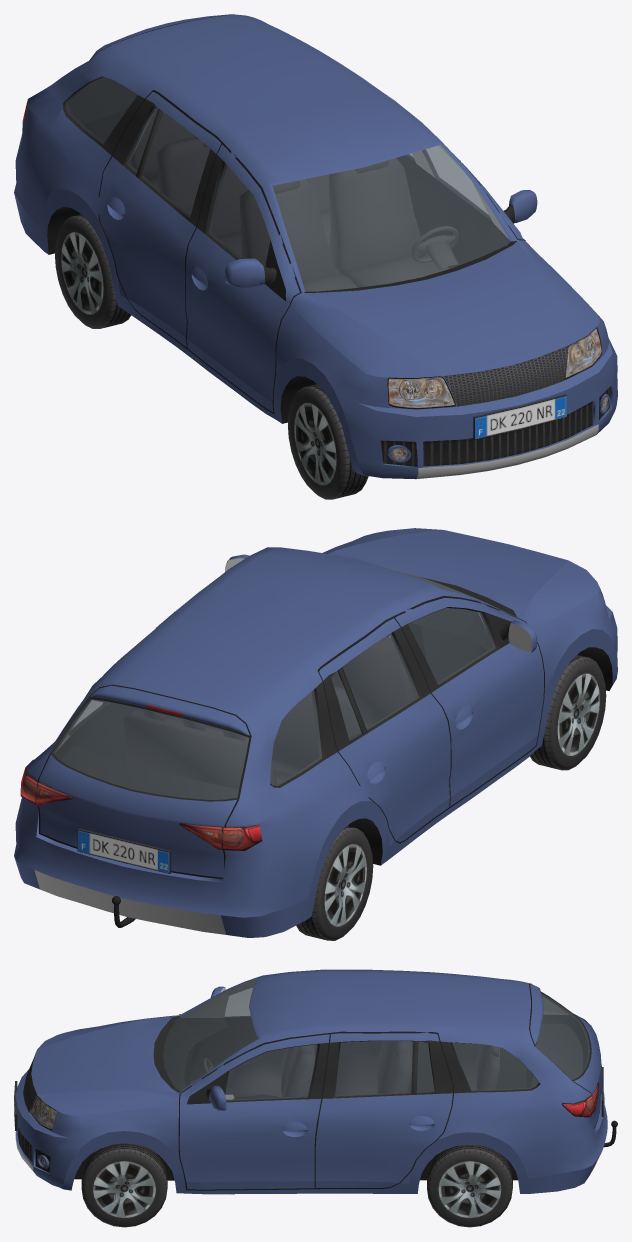
Rendered from sweethome3d-scopia-station-wagon.glb.
The picture shows the model from 3 angles, top to bottom: view 1: azimuth 30°, elevation 25°; view 2: azimuth 150°, elevation 25°; view 3: azimuth 270°, elevation 25°; orthographic projection. The views are drawn at different scales.
Parts seen in each view (by area): view 1: Car_mesh.190, Seating_Cube.005, wheels_Cylinder, InteriorCar_mesh.004, FrontLines_mesh.009, LicensePlates_mesh.010, Rearview_Plane.002, Lines_mesh.008, SteeringWheel_Torus; view 2: Car_mesh.190, Seating_Cube.005, wheels_Cylinder, InteriorCar_mesh.004, RearLights_mesh.005, LicensePlates_mesh.010, Lines_mesh.008, sweethome3d_window_mirror_Plane.003; view 3: Car_mesh.190, wheels_Cylinder, InteriorCar_mesh.004, Seating_Cube.005, Lines_mesh.008, RearLights_mesh.005, FrontLines_mesh.009, Rearview_Plane.002.
Part boxes in pixels (x1,y1,x2,y2): Car_mesh.190: (14,14,617,479); Seating_Cube.005: (124,104,449,291); wheels_Cylinder: (55,214,368,499); InteriorCar_mesh.004: (68,77,510,268); FrontLines_mesh.009: (387,327,601,409); LicensePlates_mesh.010: (473,394,566,439); Rearview_Plane.002: (225,190,537,287); Lines_mesh.008: (90,14,525,414); SteeringWheel_Torus: (411,226,458,269); Car_mesh.190: (14,528,617,937); Seating_Cube.005: (124,635,415,788); wheels_Cylinder: (296,655,606,940); InteriorCar_mesh.004: (54,608,492,799); RearLights_mesh.005: (20,759,262,850); LicensePlates_mesh.010: (77,828,171,873); Lines_mesh.008: (37,596,544,878); sweethome3d_window_mirror_Plane.003: (225,558,531,652); Car_mesh.190: (15,969,607,1194); wheels_Cylinder: (81,1143,512,1227); InteriorCar_mesh.004: (163,978,587,1099); Seating_Cube.005: (233,1041,499,1099); Lines_mesh.008: (178,983,600,1190); RearLights_mesh.005: (562,1082,599,1117); FrontLines_mesh.009: (30,1096,56,1129); Rearview_Plane.002: (206,986,226,1110).
Bounding box in the file's own units: 200 × 155 × 457.
28 materials, 7 textured.
